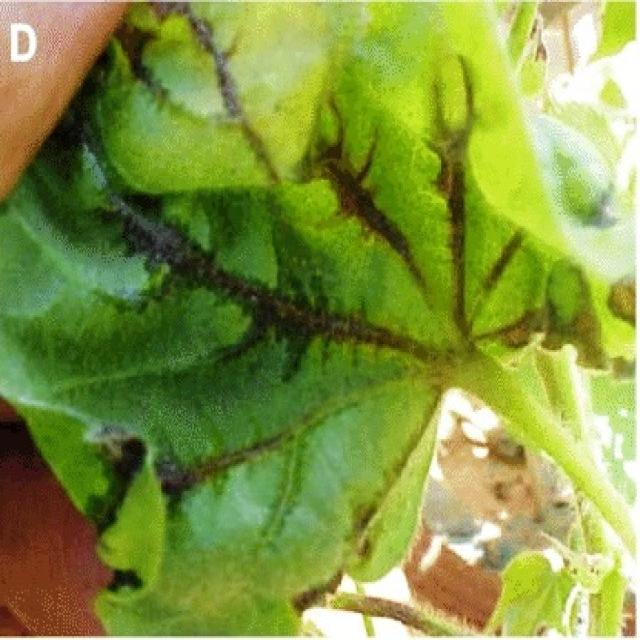Bacterial Blight: (134, 116, 452, 428)
